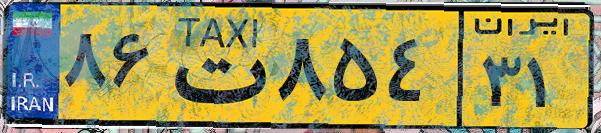1: (525, 38, 570, 115)
3: (475, 38, 525, 113)
4: (385, 28, 445, 110)
5: (330, 28, 385, 110)
6: (110, 28, 158, 98)
8: (270, 28, 330, 110), (57, 26, 110, 100)
ت: (158, 12, 270, 120)
